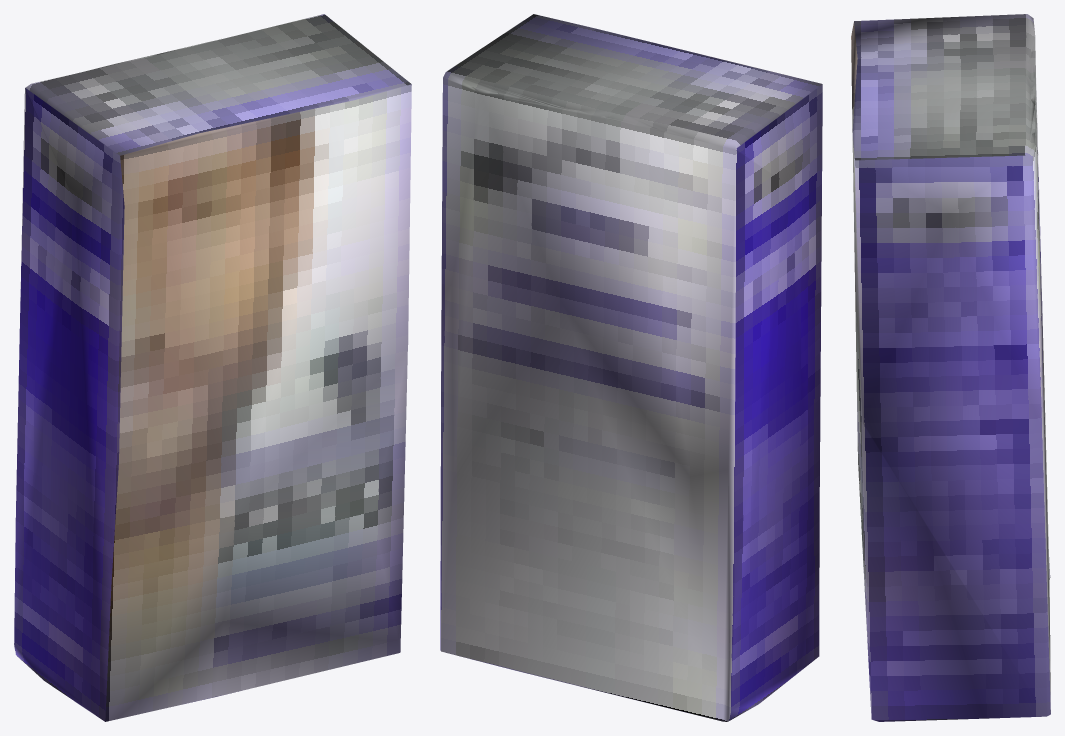
Rendered from Just_For_Men_Mustache_Beard_Brushin_Hair_Color_Gel_MediumDark_Brown_M40-low.glb.
3 views of the same model, side by side, from view 1: azimuth 30°, elevation 25°; view 2: azimuth 150°, elevation 25°; view 3: azimuth 270°, elevation 25° (orthographic). The views are drawn at different scales.
Parts seen in each view (by area): view 1: Just_For_Men_Mustache_Beard_Brushin_Hair_Color_Gel_MediumDar; view 2: Just_For_Men_Mustache_Beard_Brushin_Hair_Color_Gel_MediumDar; view 3: Just_For_Men_Mustache_Beard_Brushin_Hair_Color_Gel_MediumDar.
Part boxes in pixels (x1,y1,x2,y2): Just_For_Men_Mustache_Beard_Brushin_Hair_Color_Gel_MediumDar: (14, 14, 411, 721); Just_For_Men_Mustache_Beard_Brushin_Hair_Color_Gel_MediumDar: (440, 14, 822, 721); Just_For_Men_Mustache_Beard_Brushin_Hair_Color_Gel_MediumDar: (851, 14, 1050, 721).
Bounding box in the file's own units: 0.0788 × 0.1444 × 0.0458.
1 material, 1 textured.
